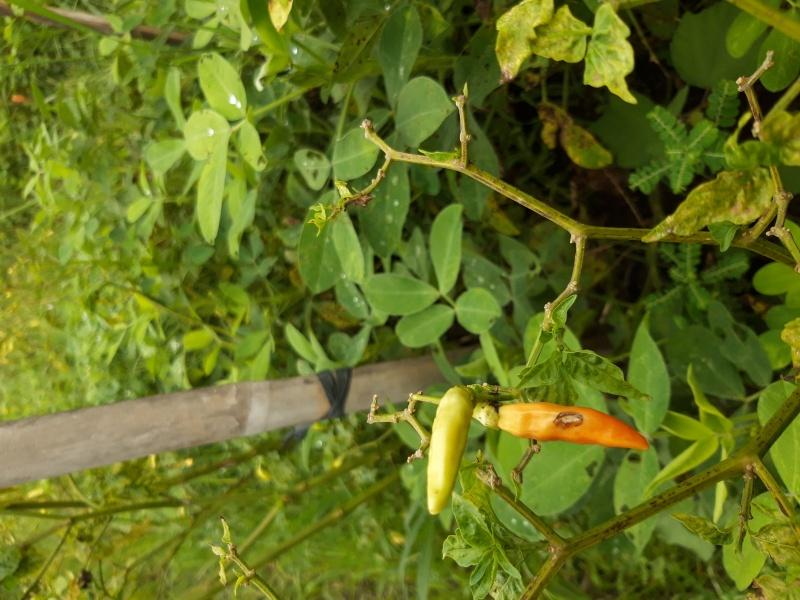antraknosa: (499, 400, 650, 450)
cabai_normal: (426, 386, 474, 516)
